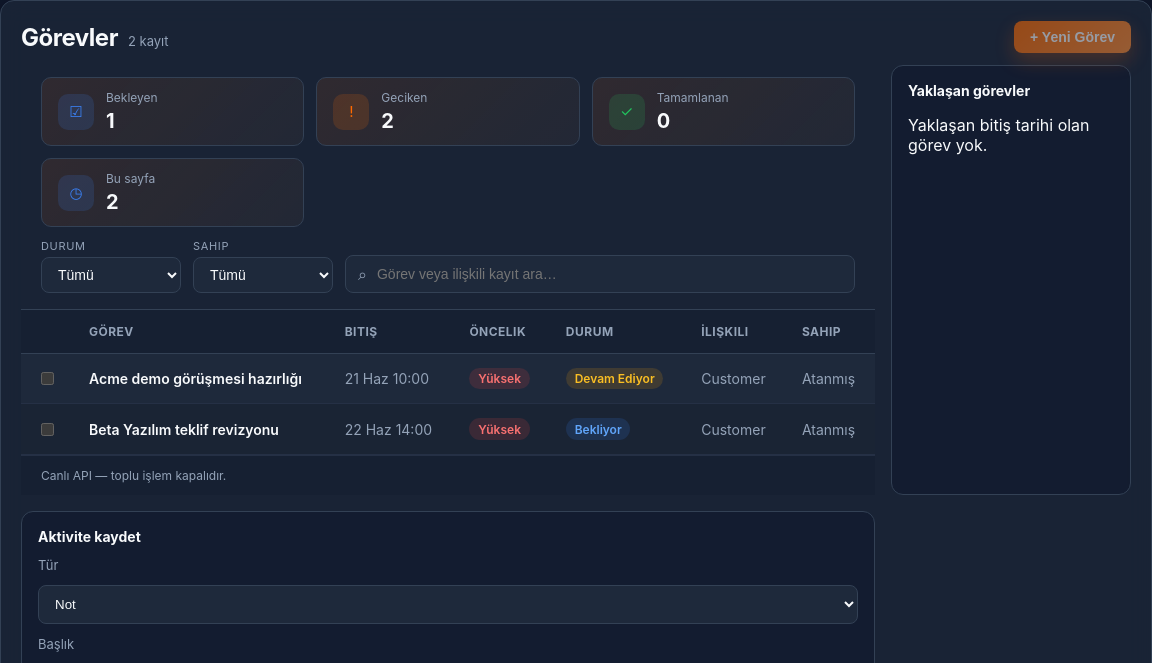
Test case: TaskListView › filters tasks by search query
Expected: the text "Acme demo görüşmesi hazırlığı" is shown, [89,370,302,387]
Type "Beta" into the search field named "Görev ara" at point(608, 274), box [375,265,842,283]
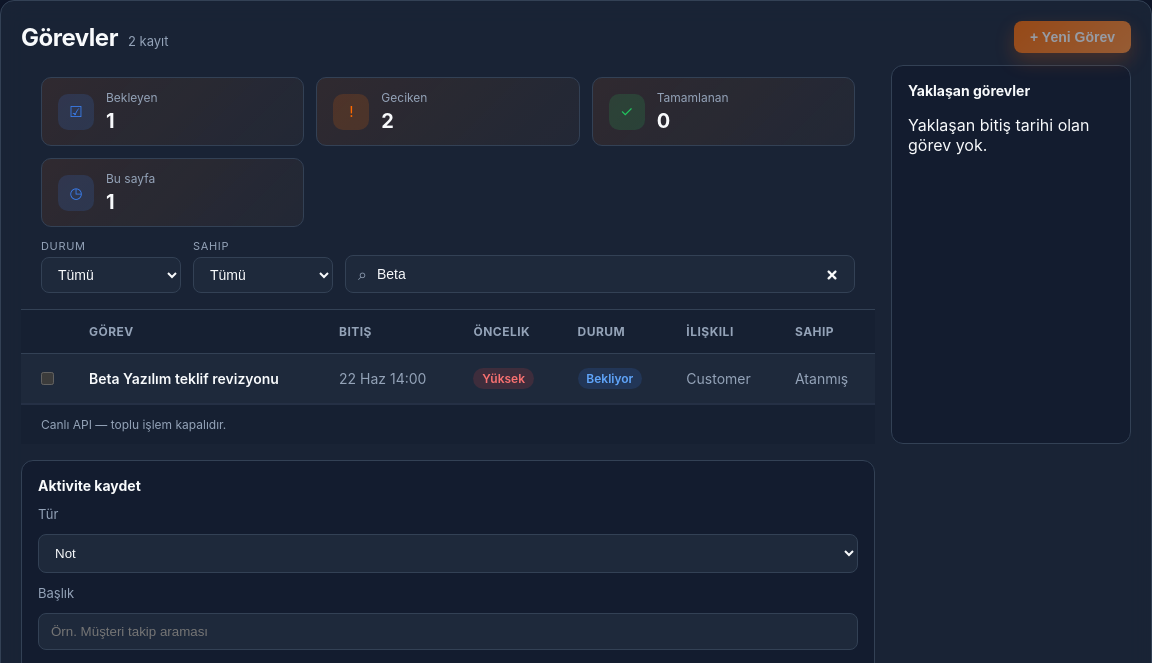
Expected: the text "Beta Yazılım teklif revizyonu" is shown, [89,370,279,387]
Now the text "Acme demo görüşmesi hazırlığı" is gone
